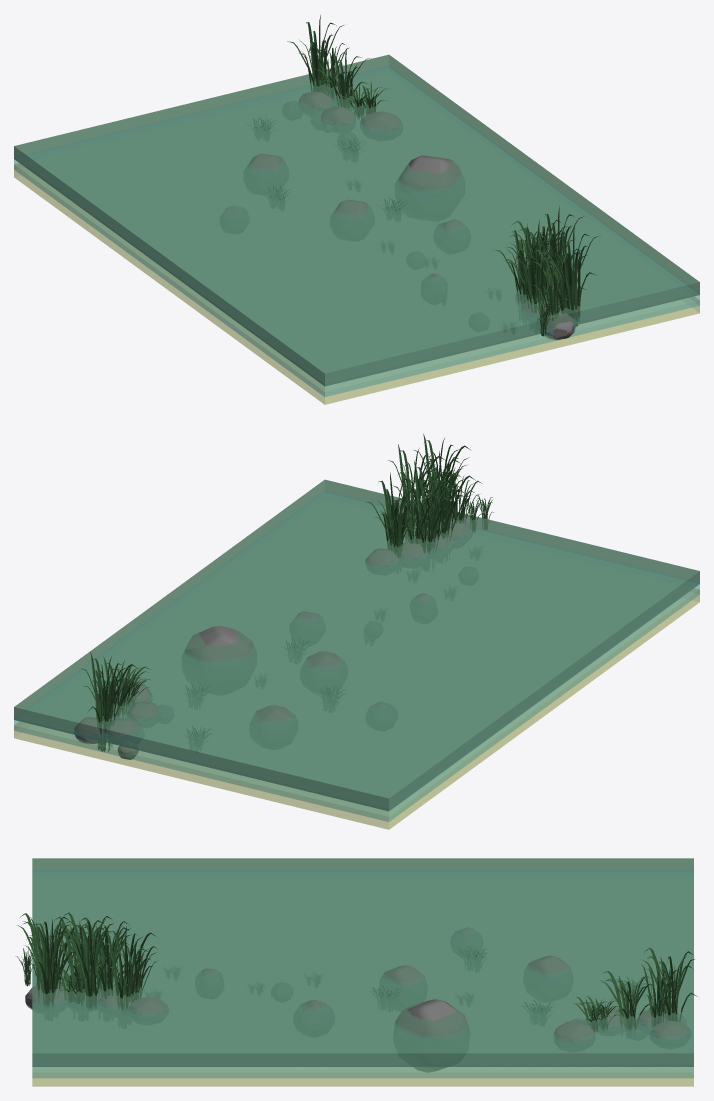
Rendered from lake.fbx.
The picture shows the model from 3 angles, top to bottom: view 1: azimuth 30°, elevation 25°; view 2: azimuth 150°, elevation 25°; view 3: azimuth 270°, elevation 25°; orthographic projection. The views are drawn at different scales.
Visible parts, largest first — view 1: water01, water05, water04, rocks, pasted__Back_hill_weed132, pasted__Back_hill_weed139, pasted__Back_hill_weed130, pasted__Back_hill_weed140, pasted__Back_hill_weed125, pasted__Back_hill_weed133, pasted__Back_hill_weed127, pasted__Back_hill_weed131; view 2: water01, water05, water04, rocks, pasted__Back_hill_weed139, pasted__Back_hill_weed125, pasted__Back_hill_weed129, pasted__Back_hill_weed130, pasted__Back_hill_weed133, pasted__Back_hill_weed126, pasted__Back_hill_weed132, pasted__Back_hill_weed140 (+1 smaller); view 3: water01, water05, water04, rocks, pasted__Back_hill_weed133, pasted__Back_hill_weed132, pasted__Back_hill_weed126, pasted__Back_hill_weed139, pasted__Back_hill_weed140, pasted__Back_hill_weed129, pasted__Back_hill_weed127, pasted__Back_hill_weed136 (+5 smaller).
Boxes of the visible parts, x1,y1,x2,y2 form: water01: [14, 54, 699, 386]; water05: [14, 163, 699, 404]; water04: [14, 66, 699, 396]; rocks: [226, 86, 575, 340]; pasted__Back_hill_weed132: [542, 226, 598, 326]; pasted__Back_hill_weed139: [287, 15, 344, 92]; pasted__Back_hill_weed130: [505, 233, 562, 312]; pasted__Back_hill_weed140: [313, 49, 371, 109]; pasted__Back_hill_weed125: [494, 223, 551, 305]; pasted__Back_hill_weed133: [526, 206, 583, 287]; pasted__Back_hill_weed127: [533, 248, 587, 338]; pasted__Back_hill_weed131: [532, 266, 568, 320]; water01: [14, 479, 699, 811]; water05: [14, 588, 699, 829]; water04: [14, 491, 699, 821]; rocks: [74, 519, 471, 759]; pasted__Back_hill_weed139: [81, 652, 137, 751]; pasted__Back_hill_weed125: [404, 472, 461, 553]; pasted__Back_hill_weed129: [392, 469, 449, 543]; pasted__Back_hill_weed130: [418, 464, 475, 540]; pasted__Back_hill_weed133: [387, 444, 445, 541]; pasted__Back_hill_weed126: [366, 472, 418, 549]; pasted__Back_hill_weed132: [414, 433, 470, 501]; pasted__Back_hill_weed140: [101, 656, 150, 717]; water01: [32, 858, 693, 1066]; water05: [32, 1067, 693, 1086]; water04: [32, 870, 693, 1077]; rocks: [25, 927, 690, 1072]; pasted__Back_hill_weed133: [61, 912, 115, 1009]; pasted__Back_hill_weed132: [17, 913, 72, 1007]; pasted__Back_hill_weed126: [103, 924, 156, 1010]; pasted__Back_hill_weed139: [642, 948, 697, 1021]; pasted__Back_hill_weed140: [600, 971, 655, 1031]; pasted__Back_hill_weed129: [82, 924, 133, 998]; pasted__Back_hill_weed127: [29, 917, 77, 997]; pasted__Back_hill_weed136: [642, 964, 679, 1028].
Size of the model in its own units: 308 by 100 by 458.
